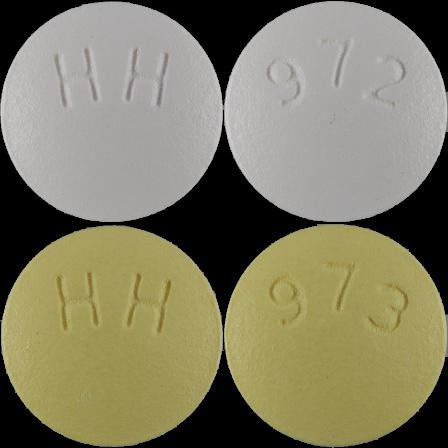43353-194: (0, 0, 224, 224)
